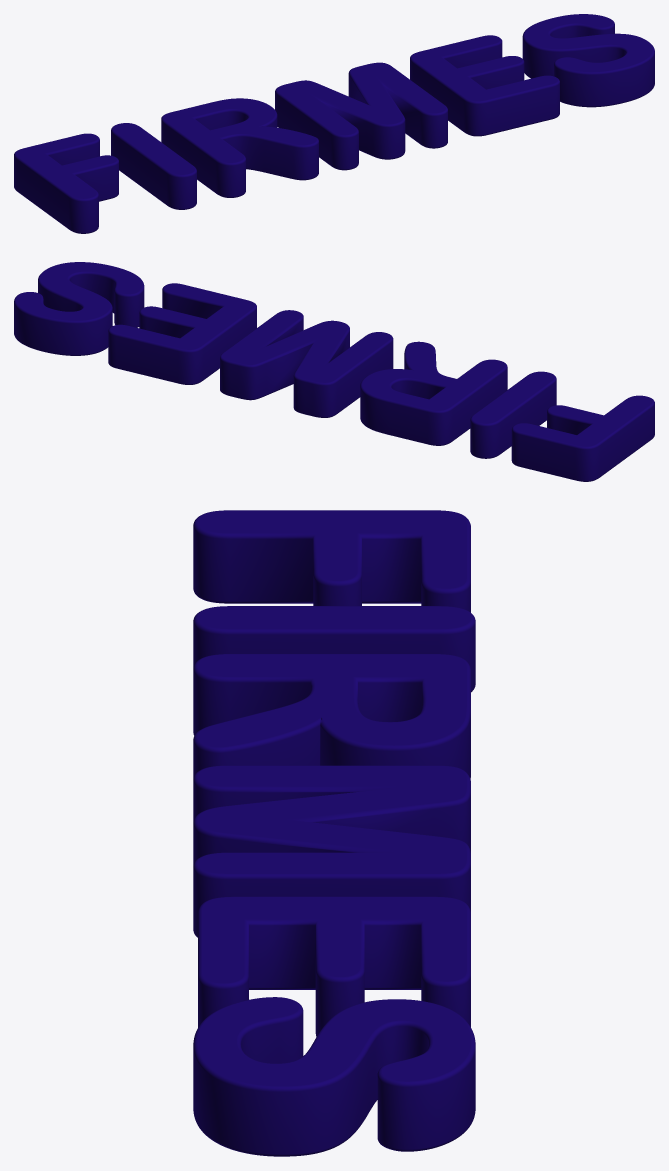
The model's file is nombre.glb.
3 views of the same model, one above another, from view 1: azimuth 30°, elevation 25°; view 2: azimuth 150°, elevation 25°; view 3: azimuth 270°, elevation 25° (orthographic). The views are drawn at different scales.
Visible parts, largest first — view 1: Text; view 2: Text; view 3: Text.
Boxes of the visible parts, box(x1,y1,x2,y2) form: Text: box(14, 14, 654, 233); Text: box(14, 262, 654, 481); Text: box(193, 510, 475, 1156).
Bounding box in the file's own units: 3.2 × 0.18 × 0.6597.
